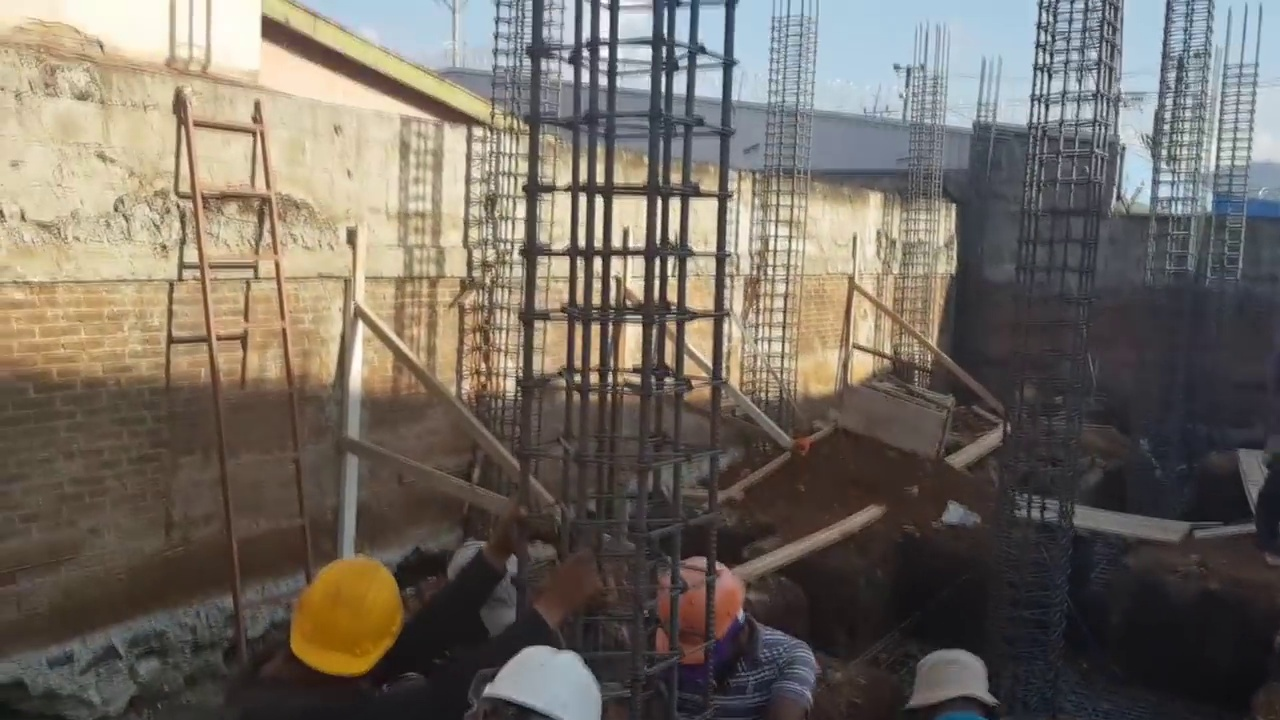helmet: (283, 569, 398, 677), (655, 570, 748, 662), (477, 650, 604, 716), (915, 660, 997, 709)
helmet-on: (249, 561, 403, 688), (650, 564, 764, 681)
person: (219, 491, 531, 718), (629, 557, 820, 720)
